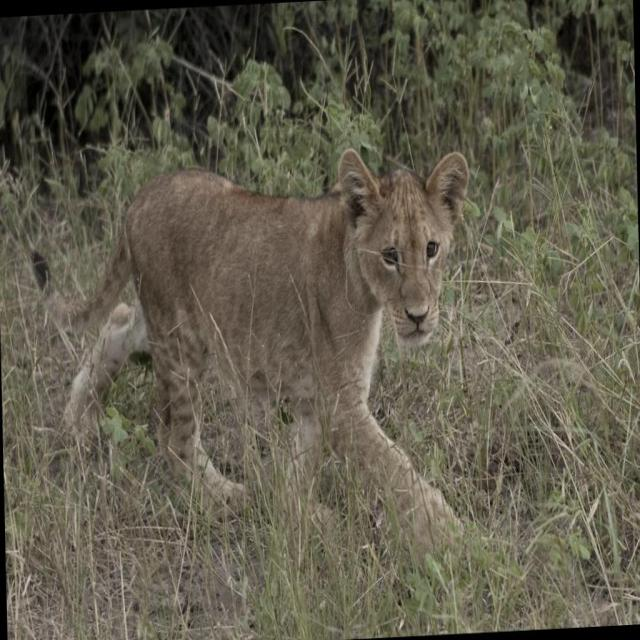Lion: (23, 141, 485, 597)
